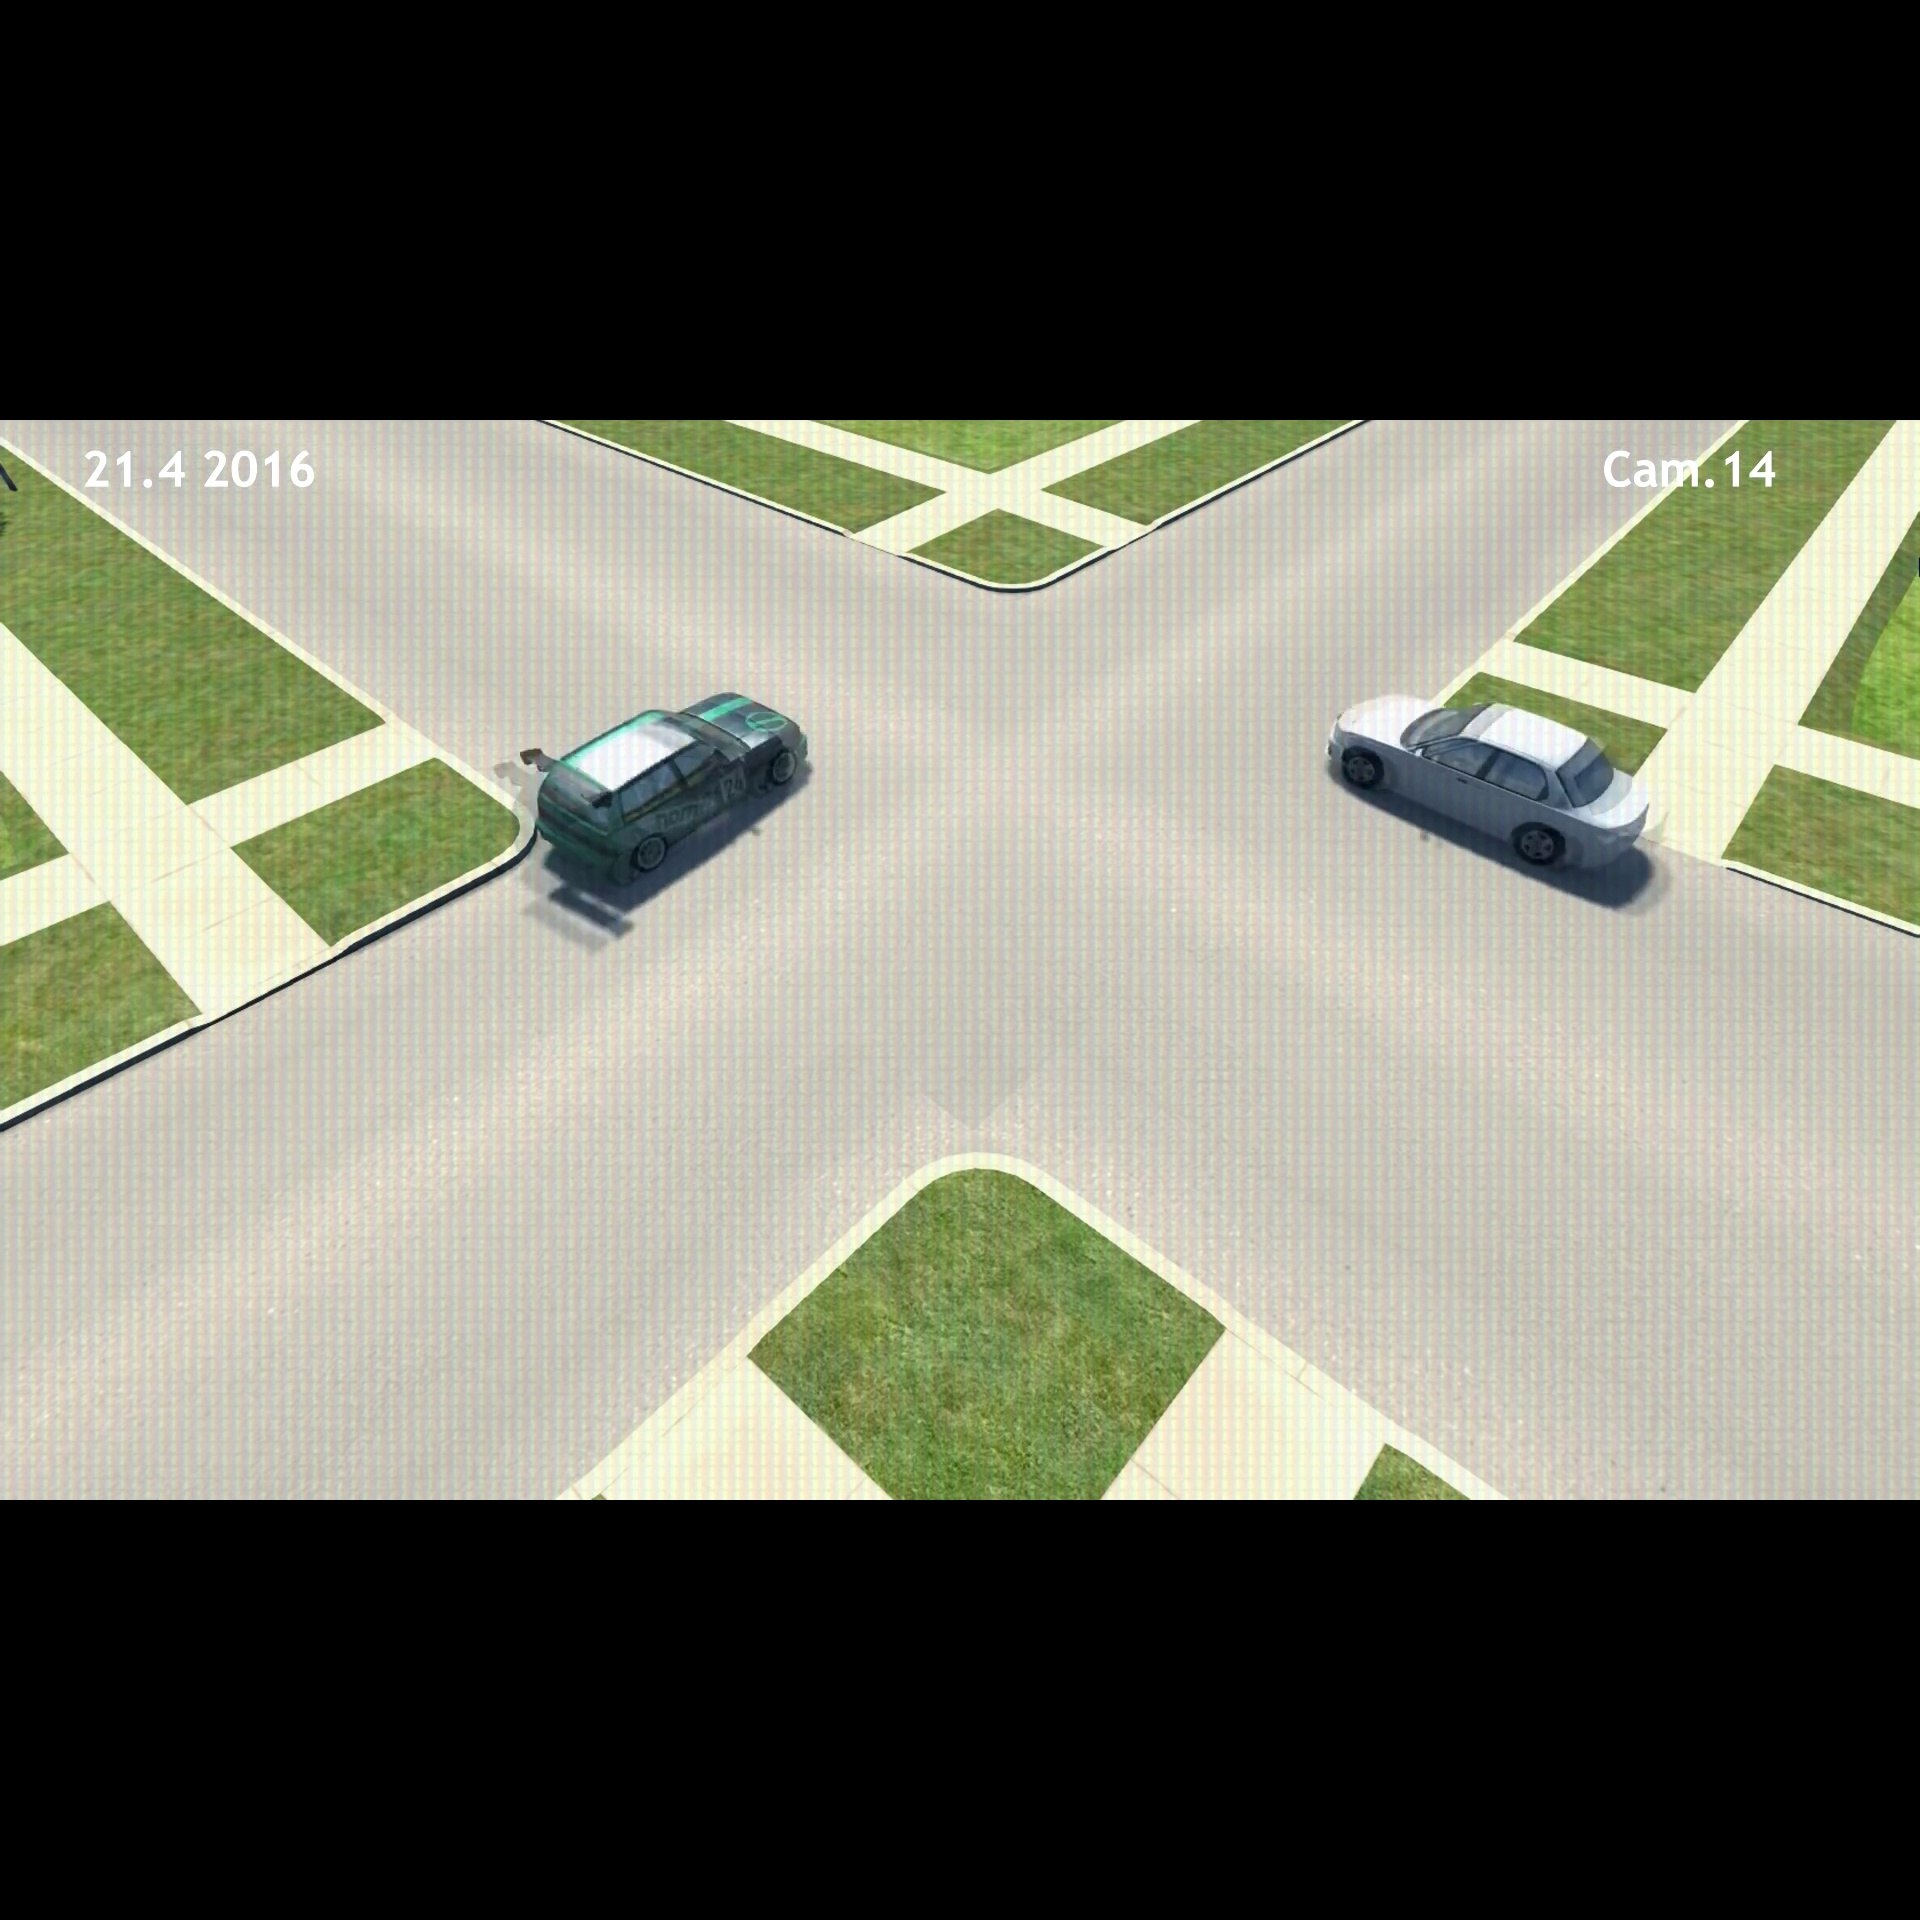vehicle: (1322, 687, 1660, 897), (531, 682, 812, 884)
